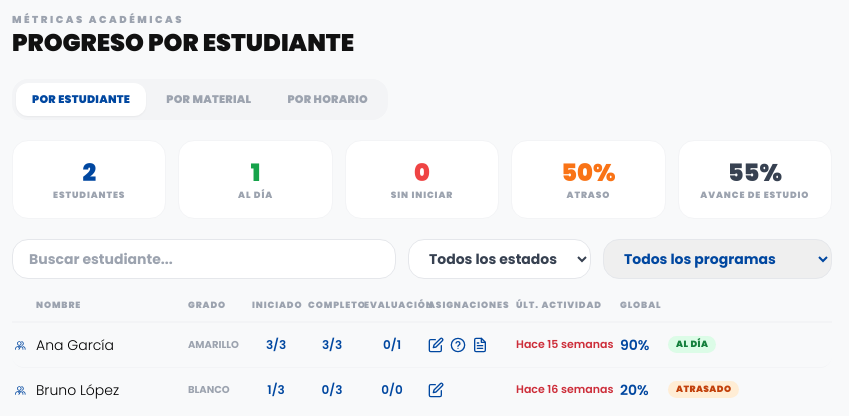
Test: PanelMetricasEstudiantes › filtro por programa › un programa sin asignaciones para un estudiante lo excluye de la lista filtrada
This screenshot has width=849, height=416.
Expected: the text "Ana García" is shown, [36,334,114,354]
Select "Programa Competencia" in the dropdown named "Filtrar por programa" at (718, 259), box [603,239,832,279]
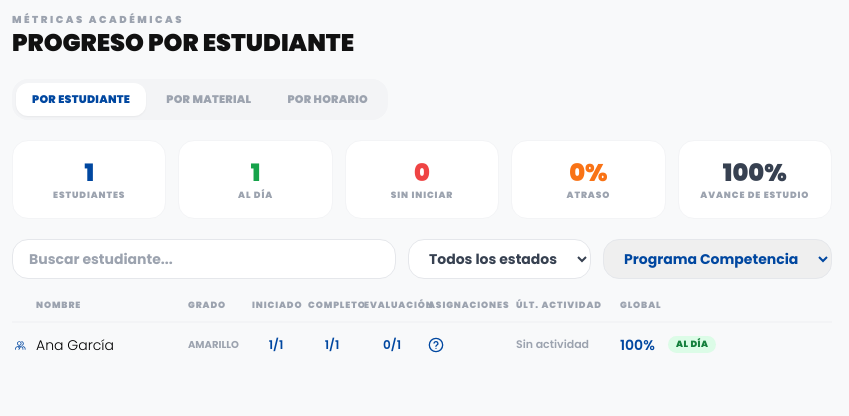
Expected: the text "Ana García" is shown, [36,334,114,354]
Now the text "Bruno López" is gone
